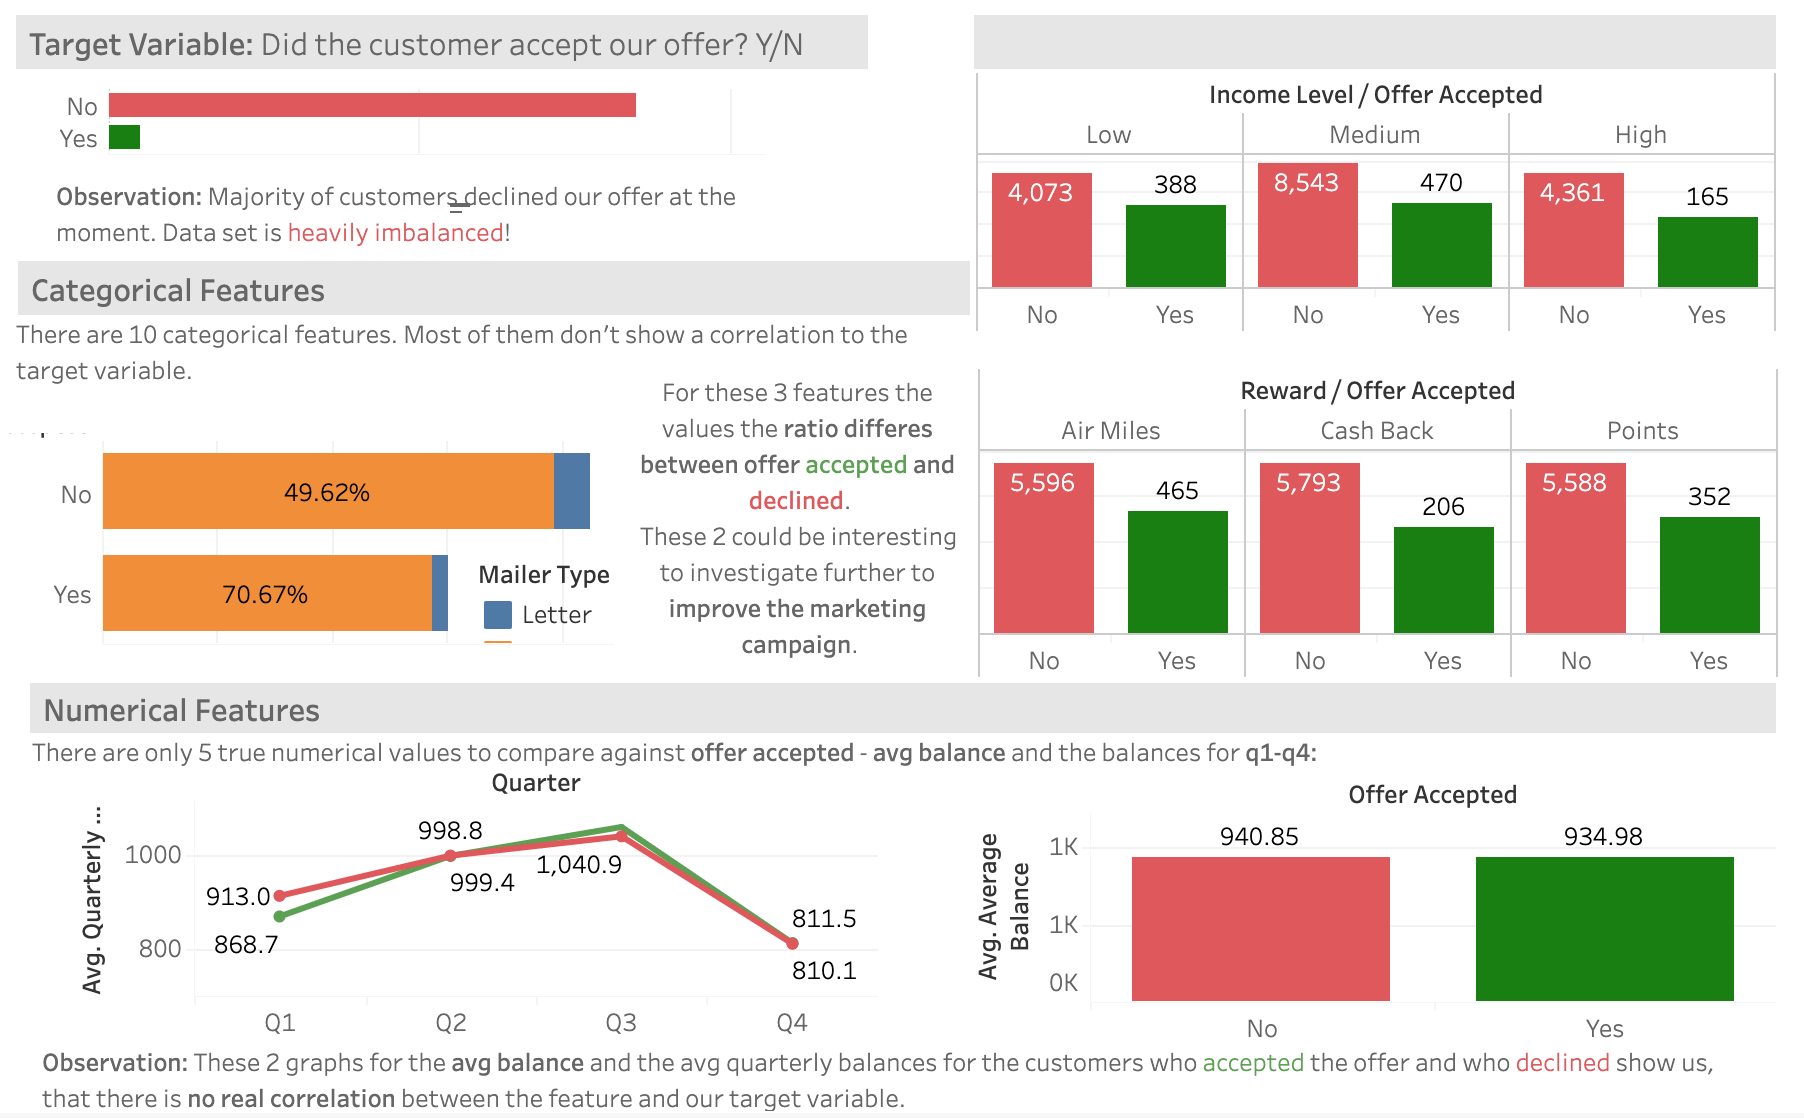

What the dashboard file says about the page in this screenshot:
{"tool":"tableau","page":{"name":"Task 9 - Dashboard 2","canvas":[1000,1000],"units":"permille","ordinal":1},"visuals":[{"type":"worksheet","box":[57,24.9,346.6,48.5]},{"type":"worksheet","box":[446.7,24.9,325.5,48.5]},{"type":"worksheet","title":"Task3 (DB)","mark":"Automatic","rows":["Offer Accepted"],"cols":["creditcardmarketing-bbm_7423971F8F104226967FE0CD2F8F73A4"],"box":[29.3,64.2,332.8,150.7]},{"type":"worksheet","title":"Task 7 - J deep dive","mark":"Bar","rows":["creditcardmarketing-bbm_7423971F8F104226967FE0CD2F8F73A4"],"cols":["Income Level","Offer Accepted"],"box":[447.5,76,324.7,232]},{"type":"worksheet","box":[73.2,167.8,288.9,66.8]},{"type":"worksheet","box":[57.8,243.8,387.3,48.5]},{"type":"worksheet","box":[57,292.3,391.4,66.8]},{"type":"worksheet","box":[310.8,327.7,130.2,287]},{"type":"worksheet","title":"Task 7 - I deep dive (DB)","mark":"Bar","rows":["creditcardmarketing-bbm_7423971F8F104226967FE0CD2F8F73A4"],"cols":["Reward","Offer Accepted"],"box":[448.3,339.4,324.7,276.5]},{"type":"worksheet","box":[12.2,360.4,98.5,36.7]},{"type":"worksheet","title":"Task 7B - deep dive (DB1)","mark":"Automatic","rows":["Offer Accepted"],"cols":["creditcardmarketing-bbm_7423971F8F104226967FE0CD2F8F73A4"],"box":[10.6,368.3,289.7,268.7]},{"type":"worksheet","title":"Task 7B - deep dive (DB1)","mark":"Automatic","rows":["Offer Accepted"],"cols":["creditcardmarketing-bbm_7423971F8F104226967FE0CD2F8F73A4"],"param":"[federated.09p3p5r11pkwdx1b5s76k0kxbmq4].[none:Mailer Type:nk]","box":[244.9,507.2,70,76]},{"type":"worksheet","box":[62.6,618.6,709.5,45.9]},{"type":"worksheet","box":[63.5,660.6,698.1,39.3]},{"type":"worksheet","title":"Task 10 - timeseries A (DB)","mark":"Line","rows":["Pivot Field Values"],"cols":["Pivot Field Names - Split 1"],"box":[74.9,689.4,332.8,246.4]},{"type":"worksheet","title":"Task 11 - Avg B Y/N (DB)","mark":"Bar","rows":["Average Balance"],"cols":["Offer Accepted"],"box":[439.4,699.9,332.8,237.2]}]}

Visuals, with their boxes on the dashboard's canvas, which has no fixed pixel size, in thousandths of its width and height (x1, y1, x2, y2). These are canvas units, not pixel positions in the 1804x1118 screenshot, which may show the page scaled, cropped or inside an application window:
worksheet: 57/25/404/73
worksheet: 447/25/772/73
"Task3 (DB)" worksheet: 29/64/362/215
"Task 7 - J deep dive" worksheet (Bar marks): 448/76/772/308
worksheet: 73/168/362/235
worksheet: 58/244/445/292
worksheet: 57/292/448/359
worksheet: 311/328/441/615
"Task 7 - I deep dive (DB)" worksheet (Bar marks): 448/339/773/616
worksheet: 12/360/111/397
"Task 7B - deep dive (DB1)" worksheet: 11/368/300/637
"Task 7B - deep dive (DB1)" worksheet: 245/507/315/583
worksheet: 63/619/772/664
worksheet: 64/661/762/700
"Task 10 - timeseries A (DB)" worksheet (Line marks): 75/689/408/936
"Task 11 - Avg B Y/N (DB)" worksheet (Bar marks): 439/700/772/937
